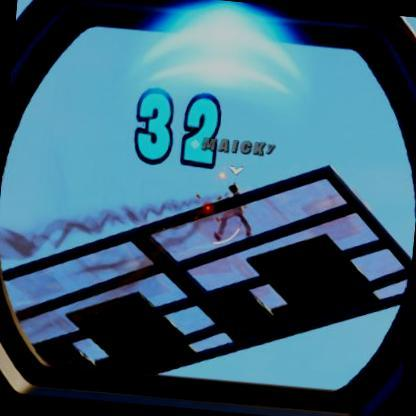person: (216, 181, 254, 238)
